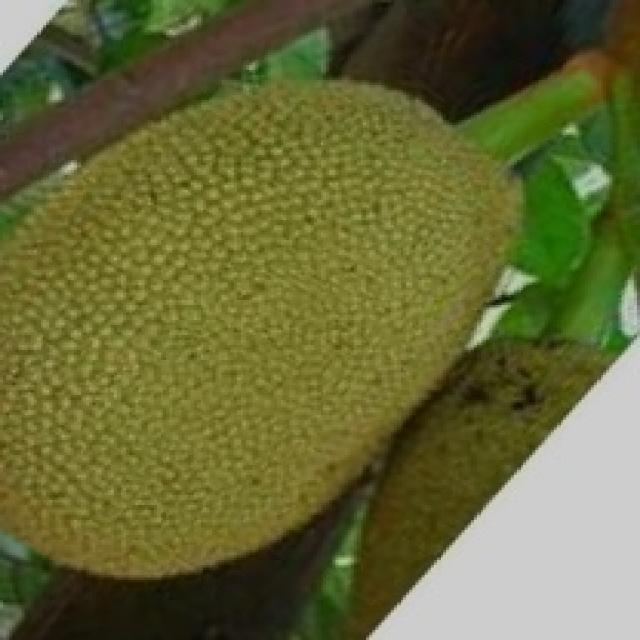Fruit: (0, 260, 403, 635), (184, 38, 582, 398)
